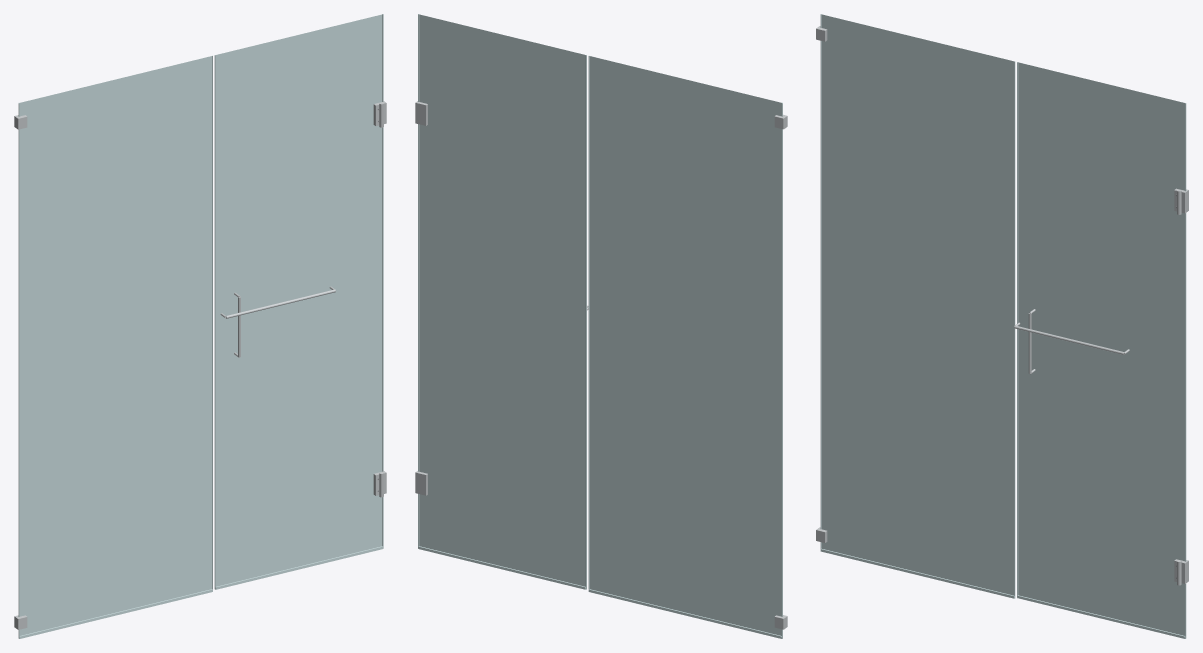
The model's file is frameless-clear-hinged-shower-enclosure-07.glb.
The picture shows the model from 3 angles, left to right: view 1: azimuth 30°, elevation 25°; view 2: azimuth 150°, elevation 25°; view 3: azimuth 330°, elevation 25°; orthographic projection.
Parts seen in each view (by area): view 1: Fixed panel, Hinged door, Hinged door glass edges, Fixed panel glass edges, Fixed panel lower seal, Hinged door lower seal; view 2: Fixed panel, Hinged door, Hinged door glass edges, Fixed panel glass edges, Fixed panel lower seal, Hinged door lower seal, Door hinge plate; view 3: Fixed panel, Hinged door, Fixed panel glass edges, Hinged door glass edges, Fixed panel lower seal, Hinged door lower seal.
Boxes of the visible parts, x1=… form: Fixed panel: x1=20, y1=56, x2=211, y2=635; Hinged door: x1=216, y1=14, x2=382, y2=586; Hinged door glass edges: x1=214, y1=14, x2=383, y2=589; Fixed panel glass edges: x1=18, y1=55, x2=212, y2=638; Fixed panel lower seal: x1=19, y1=589, x2=212, y2=638; Hinged door lower seal: x1=215, y1=546, x2=383, y2=589; Fixed panel: x1=589, y1=56, x2=781, y2=635; Hinged door: x1=419, y1=14, x2=585, y2=586; Hinged door glass edges: x1=418, y1=14, x2=586, y2=589; Fixed panel glass edges: x1=588, y1=55, x2=782, y2=638; Fixed panel lower seal: x1=588, y1=589, x2=781, y2=638; Hinged door lower seal: x1=418, y1=546, x2=585, y2=589; Door hinge plate: x1=415, y1=101, x2=427, y2=495; Fixed panel: x1=821, y1=14, x2=1014, y2=595; Hinged door: x1=1018, y1=62, x2=1184, y2=635; Fixed panel glass edges: x1=820, y1=14, x2=1015, y2=598; Hinged door glass edges: x1=1017, y1=62, x2=1186, y2=638; Fixed panel lower seal: x1=820, y1=548, x2=1014, y2=598; Hinged door lower seal: x1=1017, y1=595, x2=1185, y2=638.
Size of the model in its own units: 1.42 by 1.97 by 0.062.
